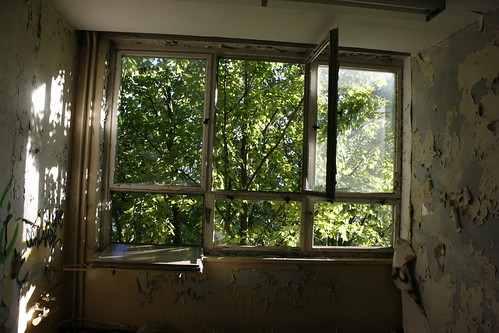window: (71, 35, 423, 263)
